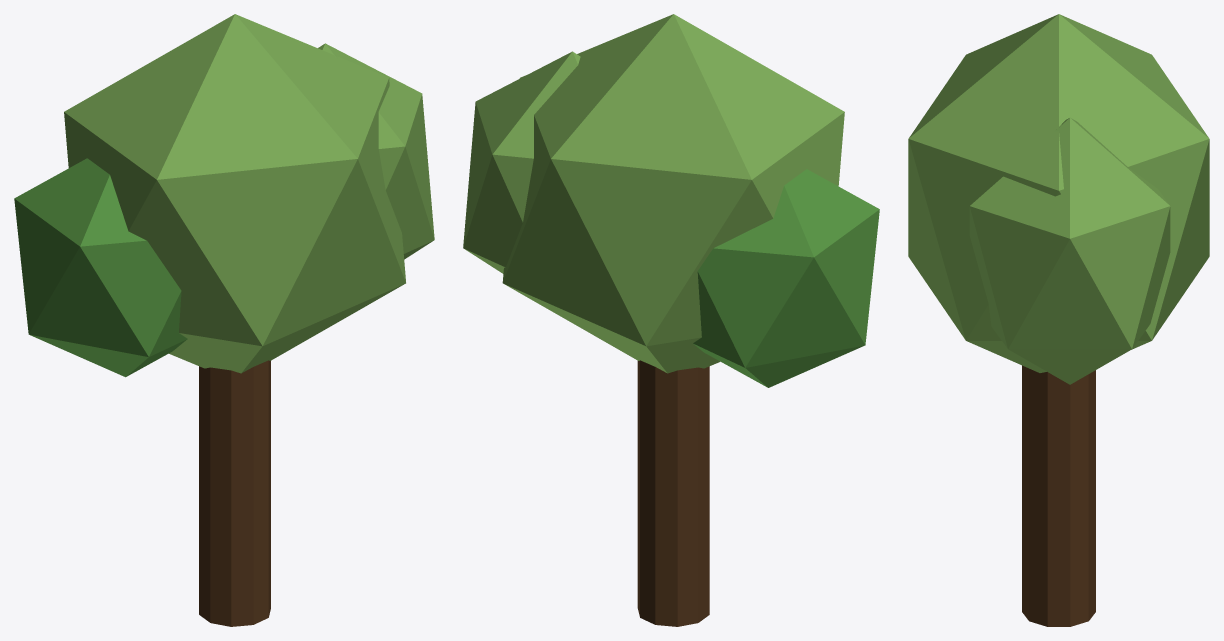
Rendered from scenery_tree_round.glb.
The picture shows the model from 3 angles, left to right: view 1: azimuth 30°, elevation 25°; view 2: azimuth 150°, elevation 25°; view 3: azimuth 270°, elevation 25°; orthographic projection.
Visible parts, largest first — view 1: scenery_tree_round__part_000, scenery_tree_round__part_001, scenery_tree_round__part_003, scenery_tree_round__part_002; view 2: scenery_tree_round__part_000, scenery_tree_round__part_001, scenery_tree_round__part_003, scenery_tree_round__part_002; view 3: scenery_tree_round__part_000, scenery_tree_round__part_002, scenery_tree_round__part_003.
Part boxes in pixels (x1=…): scenery_tree_round__part_000: x1=64, y1=14, x2=405, y2=373; scenery_tree_round__part_001: x1=14, y1=158, x2=187, y2=377; scenery_tree_round__part_003: x1=199, y1=360, x2=270, y2=626; scenery_tree_round__part_002: x1=318, y1=43, x2=434, y2=259; scenery_tree_round__part_000: x1=502, y1=14, x2=844, y2=373; scenery_tree_round__part_001: x1=693, y1=169, x2=879, y2=387; scenery_tree_round__part_003: x1=637, y1=360, x2=709, y2=626; scenery_tree_round__part_002: x1=463, y1=51, x2=580, y2=273; scenery_tree_round__part_000: x1=908, y1=14, x2=1209, y2=372; scenery_tree_round__part_002: x1=969, y1=117, x2=1170, y2=384; scenery_tree_round__part_003: x1=1022, y1=365, x2=1095, y2=626.
Size of the model in its own units: 1.23 by 1.79 by 0.8166.
